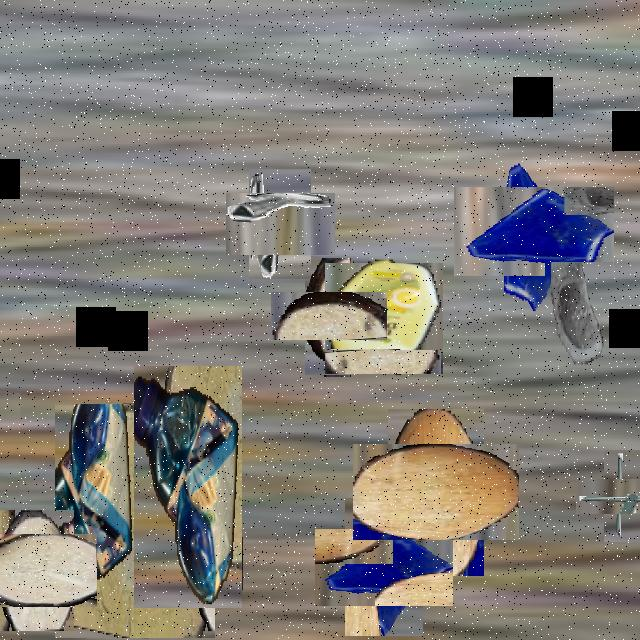glass: (472, 168, 596, 294), (330, 513, 438, 621), (545, 262, 613, 382)
metal: (237, 181, 323, 267), (590, 463, 640, 528)
plastic: (134, 366, 242, 608), (326, 261, 442, 375), (0, 393, 20, 638)
wood: (55, 404, 215, 638), (370, 427, 502, 558), (0, 521, 85, 619), (288, 275, 370, 358)
